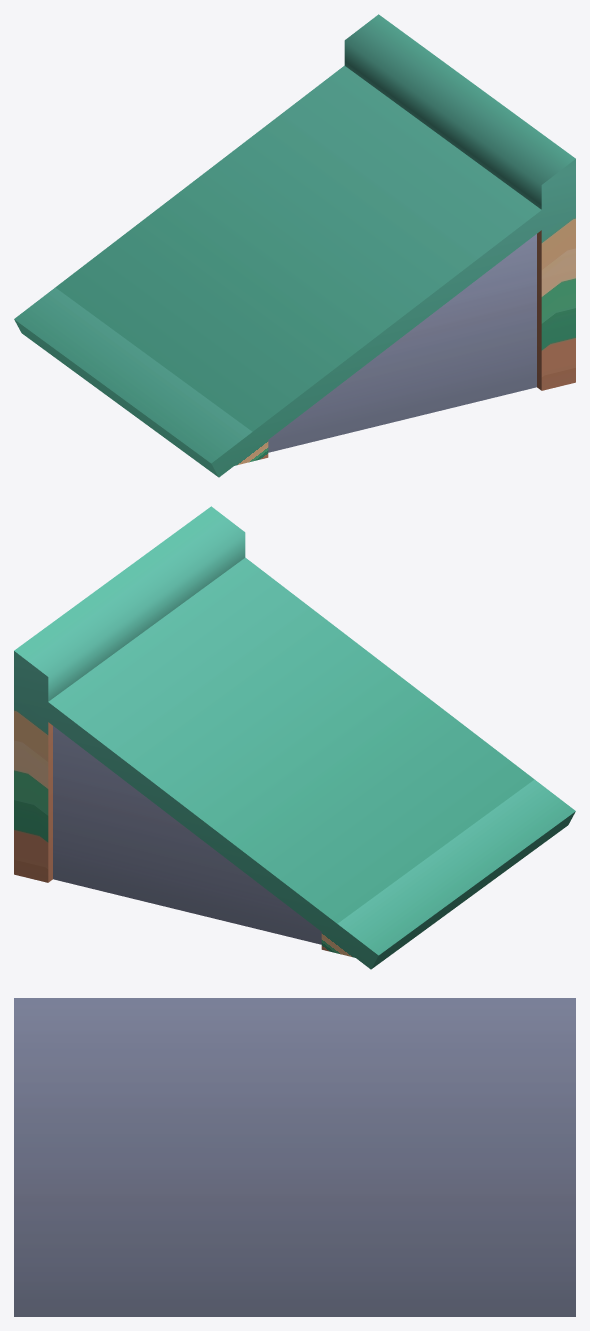
Rendered from kenney-fantasy-town-roof.glb.
3 views of the same model, one above another, from view 1: azimuth 30°, elevation 25°; view 2: azimuth 150°, elevation 25°; view 3: azimuth 270°, elevation 25° (orthographic). The views are drawn at different scales.
Visible parts, largest first — view 1: roof; view 2: roof; view 3: roof.
Boxes of the visible parts, x1=… form: roof: x1=14, y1=14, x2=575, y2=477; roof: x1=14, y1=506, x2=575, y2=969; roof: x1=14, y1=998, x2=575, y2=1316.
Size of the model in its own units: 1.07 by 0.6483 by 1.
Materials: 1 (1 with a texture image).
